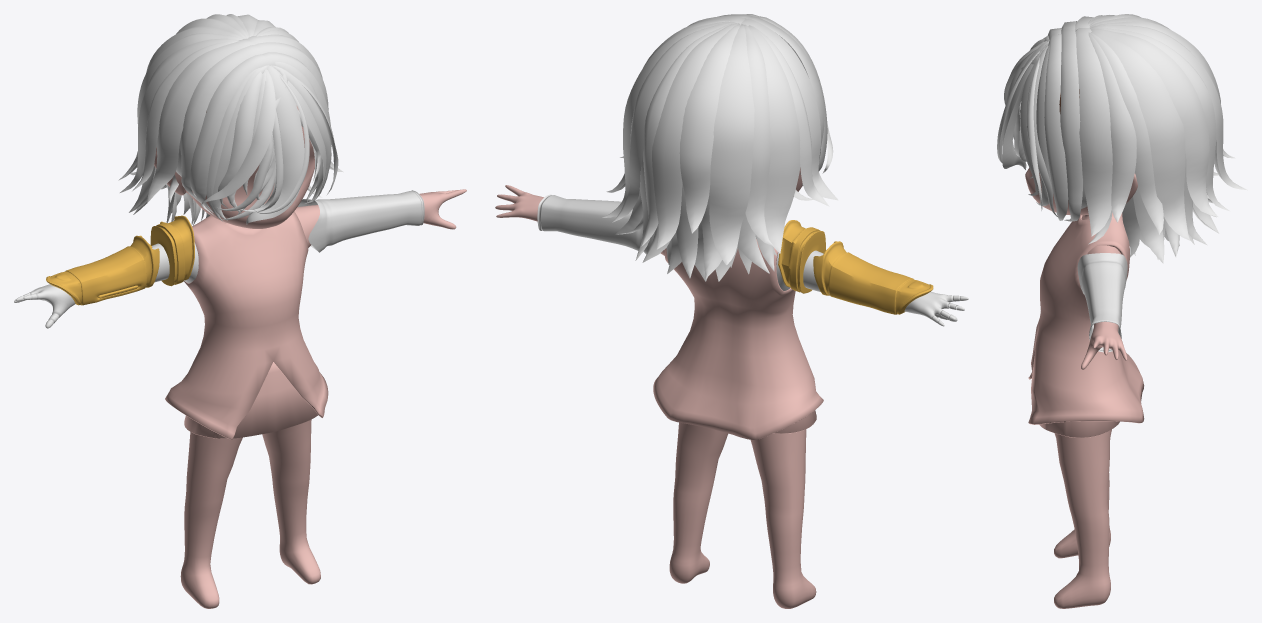
The model's file is Female _re.fbx.
3 renders of one model, left to right at view 1: azimuth 30°, elevation 25°; view 2: azimuth 150°, elevation 25°; view 3: azimuth 270°, elevation 25°, orthographic. The views are drawn at different scales.
Visible parts, largest first — view 1: s.body.004; view 2: s.body.004; view 3: s.body.004.
Boxes of the visible parts, left/top/right/bottom form: s.body.004: left=14, top=14, right=466, bottom=608; s.body.004: left=495, top=14, right=968, bottom=608; s.body.004: left=997, top=14, right=1247, bottom=608.
Size of the model in its own units: 159 by 187 by 76.33.
